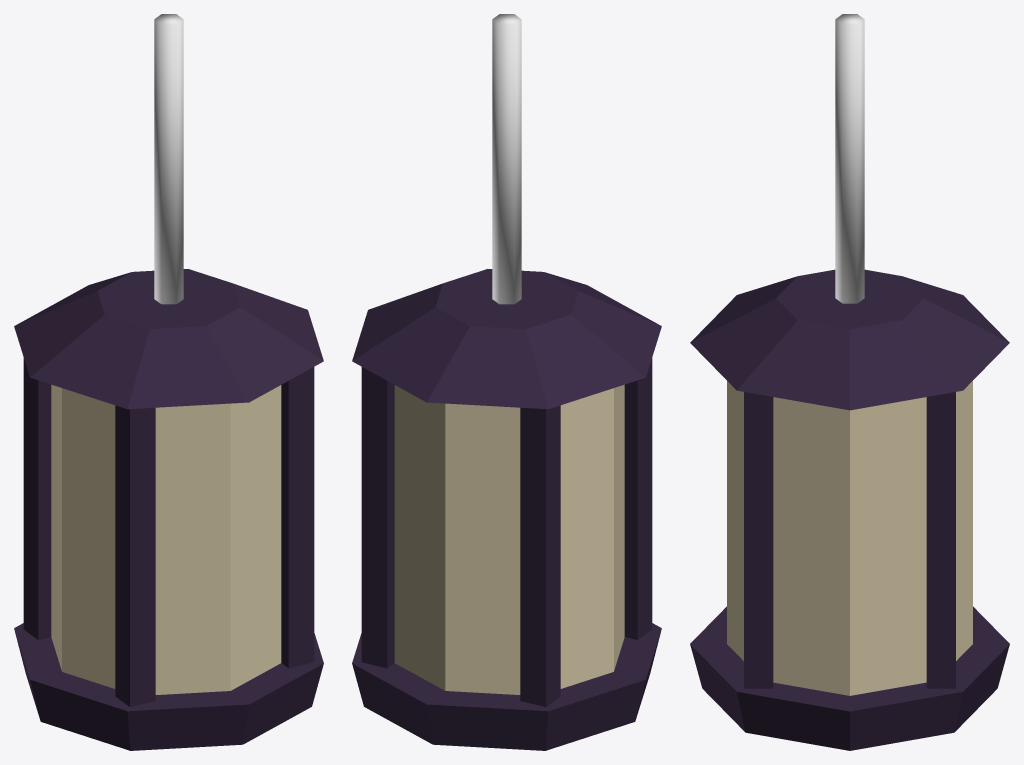
The model's file is obsidian_lantern_v0.glb.
3 views of the same model, side by side, from view 1: azimuth 30°, elevation 25°; view 2: azimuth 150°, elevation 25°; view 3: azimuth 270°, elevation 25° (orthographic).
Visible parts, largest first — view 1: obsidian_lantern_v0; view 2: obsidian_lantern_v0; view 3: obsidian_lantern_v0.
Part boxes in pixels (x1,y1,x2,y2): obsidian_lantern_v0: (14, 14, 323, 750); obsidian_lantern_v0: (352, 14, 661, 750); obsidian_lantern_v0: (690, 14, 1009, 750).
Size of the model in its own units: 0.26 by 0.6 by 0.26.
